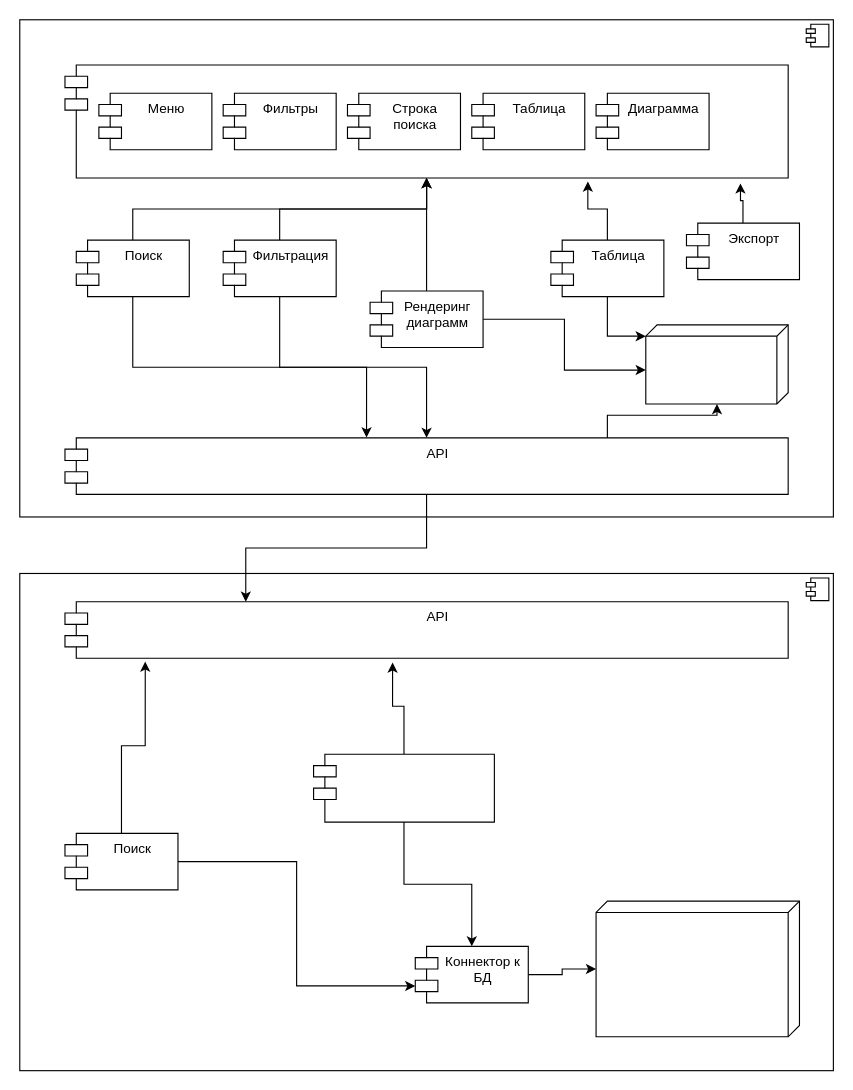
Image size: 853x1090. Some labels were removed from this diagram. The box of each missing label's shape, as (x1, y1, x2, y2) in pixels:
База Данных: (595, 900, 799, 1037)
Бэкенд: (19, 572, 833, 1071)
Графический интерфейс: (64, 64, 788, 178)
Клиент: (19, 19, 833, 517)
Конструктор запросов на основе фильтров: (312, 753, 494, 822)
КЭШ данных: (645, 324, 788, 404)
